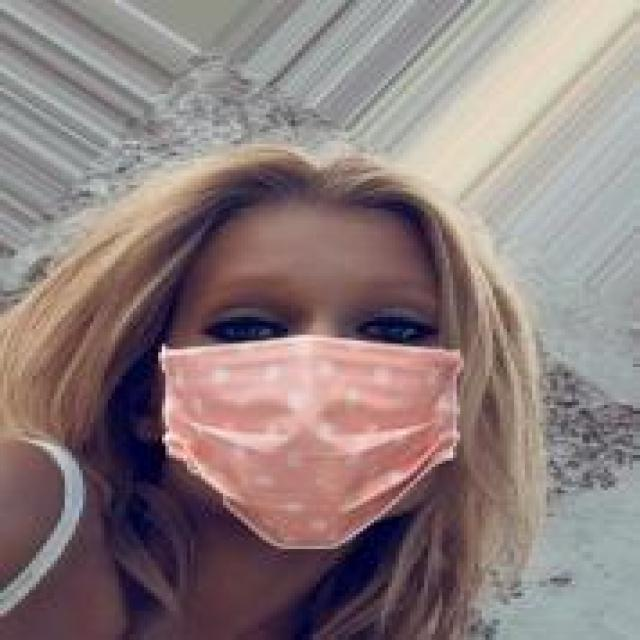mask: (118, 82, 510, 578)
